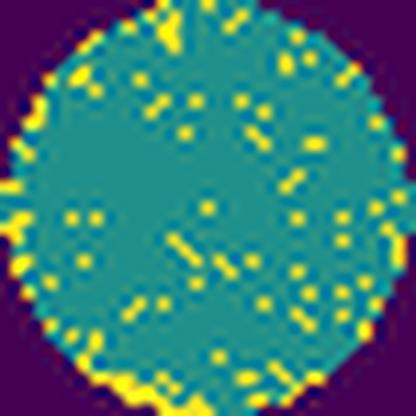Edge-Loc: (75, 321, 220, 415)
